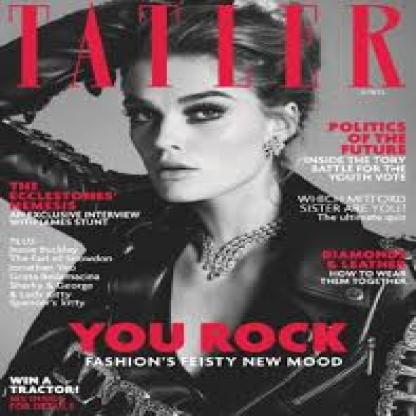Paper: (6, 1, 415, 416)
